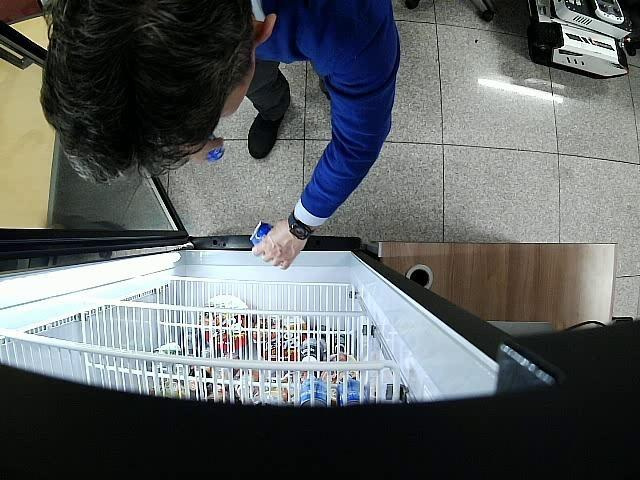13_pocariSweat: (250, 220, 273, 246), (206, 133, 224, 160)
